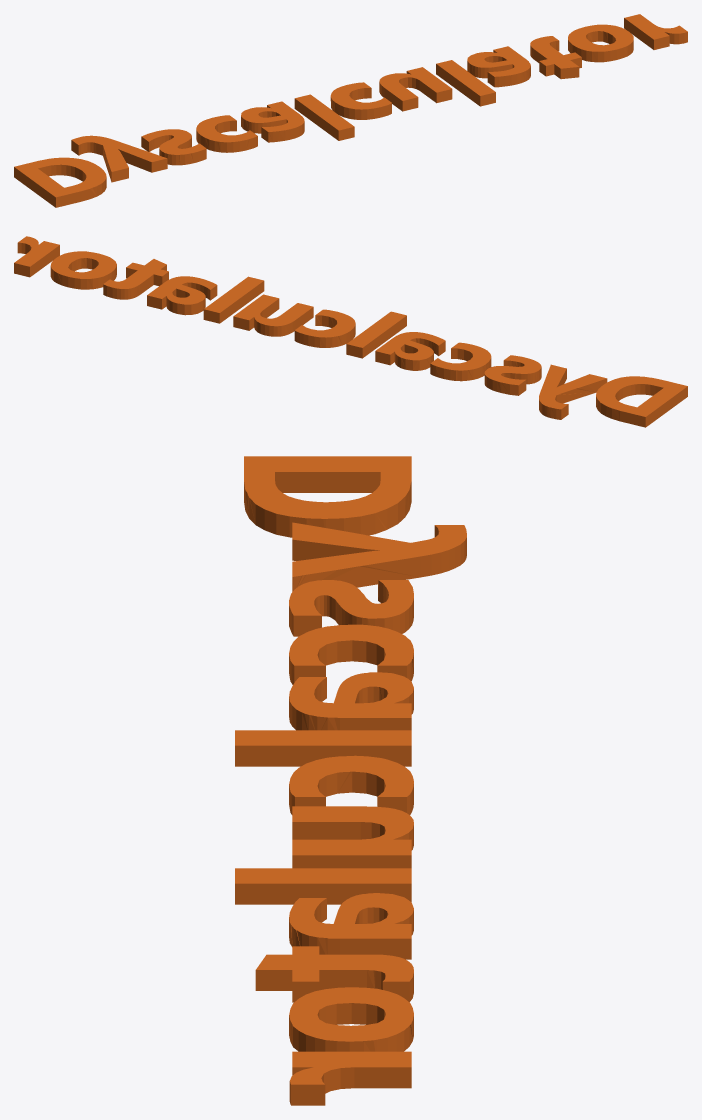
The model's file is DyscalculatorTxt.obj.
The picture shows the model from 3 angles, top to bottom: view 1: azimuth 30°, elevation 25°; view 2: azimuth 150°, elevation 25°; view 3: azimuth 270°, elevation 25°; orthographic projection. The views are drawn at different scales.
Parts seen in each view (by area): view 1: Object.7, Object.9, Object.11, Object.10, Object.2, Object.3, Object.6, Object.1, Object.5, Object.4, Object.13, Object.8 (+1 smaller); view 2: Object.7, Object.10, Object.11, Object.2, Object.9, Object.3, Object.1, Object.6, Object.5, Object.4, Object.8, Object.13 (+1 smaller); view 3: Object.7, Object.9, Object.10, Object.11, Object.2, Object.3, Object.4, Object.13, Object.8, Object.1, Object.6, Object.12 (+1 smaller).
Part boxes in pixels (x1,y1,x2,y2): Object.7: [14, 157, 106, 207]; Object.9: [71, 135, 167, 182]; Object.11: [568, 24, 633, 62]; Object.10: [379, 67, 452, 111]; Object.2: [467, 46, 530, 87]; Object.3: [241, 101, 304, 142]; Object.6: [330, 82, 391, 119]; Object.1: [141, 129, 206, 165]; Object.5: [196, 115, 257, 152]; Object.4: [530, 36, 581, 79]; Object.13: [294, 94, 354, 140]; Object.8: [436, 60, 495, 106]; Object.7: [596, 376, 687, 427]; Object.10: [233, 294, 313, 336]; Object.11: [50, 251, 116, 289]; Object.2: [147, 276, 217, 315]; Object.9: [539, 364, 607, 419]; Object.3: [375, 332, 445, 370]; Object.1: [484, 355, 541, 395]; Object.6: [294, 309, 355, 347]; Object.5: [430, 342, 491, 381]; Object.4: [103, 259, 168, 299]; Object.8: [203, 276, 264, 323]; Object.13: [346, 311, 406, 358]; Object.7: [244, 456, 411, 537]; Object.9: [292, 522, 466, 591]; Object.10: [292, 806, 413, 868]; Object.11: [289, 987, 413, 1051]; Object.2: [289, 893, 413, 959]; Object.3: [289, 672, 413, 730]; Object.4: [255, 946, 413, 1002]; Object.13: [235, 730, 411, 766]; Object.8: [235, 868, 411, 904]; Object.1: [289, 580, 413, 636]; Object.6: [289, 755, 413, 814]; Object.12: [289, 1051, 411, 1105].
Size of the model in its own units: 37.48 by 0.5846 by 5.85.
